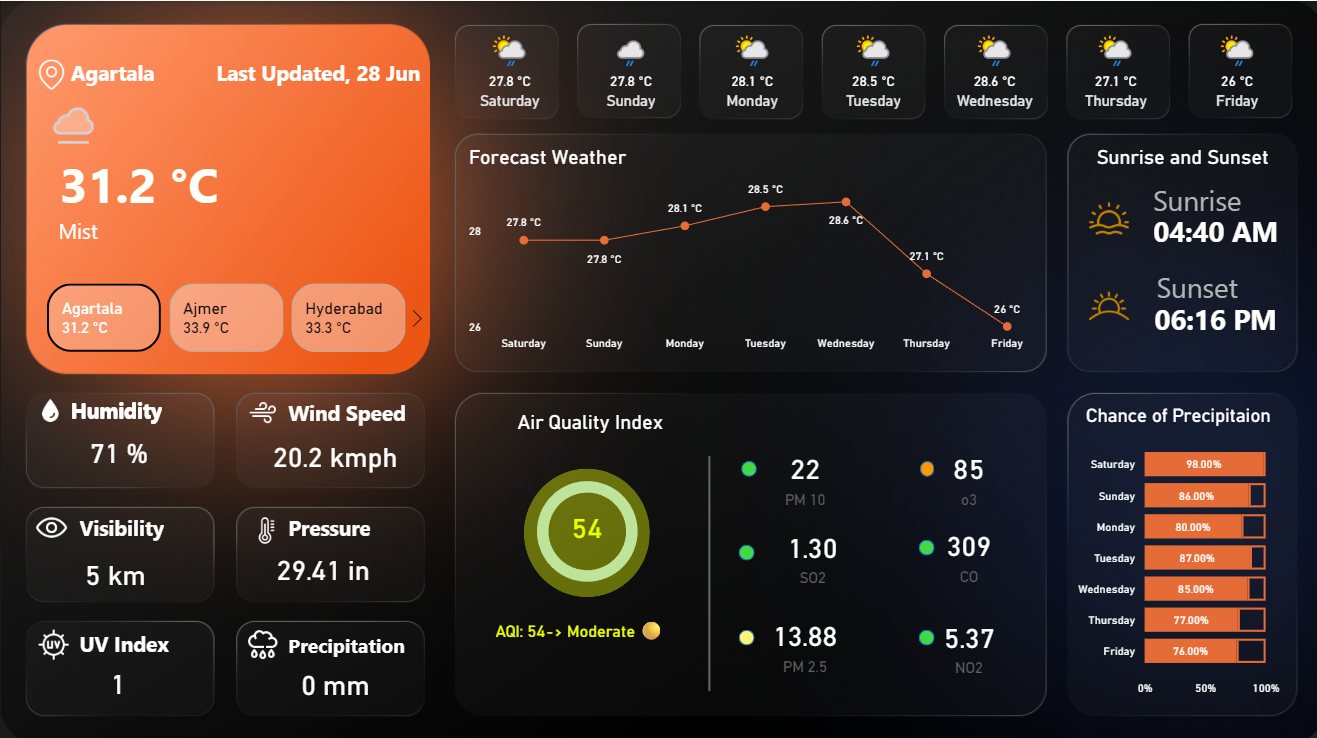

What the dashboard file says about the page in this screenshot:
{"tool":"powerbi","page":{"name":"Page 1","canvas":[1280,720],"ordinal":0},"visuals":[{"type":"advancedSlicerVisual","fields":{"Values":["Locations.location.name"]},"box":[20.6,267.6,397.9,76.8],"z":0},{"type":"shape","box":[57.9,141.2,196.6,68.8],"z":1000},{"type":"shape","box":[48.2,197.9,356.5,46.9],"z":2000},{"type":"shape","box":[60.3,32.4,142.7,72.1],"z":3000},{"type":"shape","box":[197.2,32.4,209,72.1],"z":4000},{"type":"image","box":[29.4,51.5,41.2,38.3],"z":5000},{"type":"cardVisual","fields":{"Data":["Min(current.current.condition.icon)"]},"box":[20.6,70.6,103,79.5],"z":6000},{"type":"image","box":[27.4,485.8,43.9,43.9],"z":7000},{"type":"shape","box":[68.6,489.9,109.8,35.7],"z":8000},{"type":"image","box":[28.8,378.7,39.8,32.9],"z":9000},{"type":"image","box":[31.6,595.5,41.2,50.8],"z":10000},{"type":"image","box":[230.5,378.7,46.7,37],"z":11000},{"type":"image","box":[234.6,494,46.7,35.7],"z":12000},{"type":"image","box":[231.9,595.5,43.9,50.8],"z":13000},{"type":"shape","box":[60.9,378.1,109.1,33],"z":14000},{"type":"shape","box":[68.6,591.4,129,59],"z":15000},{"type":"shape","box":[270.3,378.7,127.6,35.7],"z":16000},{"type":"shape","box":[270.3,489.9,109.8,35.7],"z":17000},{"type":"shape","box":[270.3,603.8,127.6,35.7],"z":18000},{"type":"card","fields":{"Values":["_Measures.Humidity"]},"box":[52.1,411.7,126.2,48],"z":19000},{"type":"card","fields":{"Values":["_Measures.Wind_speed"]},"box":[254.2,415.6,138.5,48.7],"z":20000},{"type":"card","fields":{"Values":["_Measures.Visibility"]},"box":[48.7,528.3,126.4,48.7],"z":21000},{"type":"card","fields":{"Values":["_Measures.Pressure"]},"box":[243.6,525.2,137,47.2],"z":22000},{"type":"card","fields":{"Values":["Sum(current.current.uv)"]},"box":[53.3,639.4,121.8,38.1],"z":23000},{"type":"card","fields":{"Values":["_Measures.Precipitation"]},"box":[267.9,634.8,112.7,48.7],"z":24000},{"type":"advancedSlicerVisual","fields":{"Values":["Forecast_day.Day_Name"]},"box":[435.2,21.6,820.9,88.8],"z":25000},{"type":"lineChart","title":"Forecast Weather","fields":{"Y":["Sum(Forecast_day.forecast.forecastday.day.avgtemp_c)"],"Category":["Forecast_day.Day_Name"]},"box":[447.9,139.6,560.8,205.6],"z":26000},{"type":"shape","box":[60.4,378.7,109.8,32.9],"z":27000},{"type":"shape","box":[1030.3,134.5,214.4,33],"z":28000},{"type":"shape","box":[1101.4,196.7,143.4,49.5],"z":29000},{"type":"shape","box":[1101.4,280.4,143.4,52],"z":30000},{"type":"shape","box":[1101.4,173.8,107.9,35.5],"z":31000},{"type":"shape","box":[1101.4,255,107.9,41.9],"z":32000},{"type":"image","box":[1040.4,185.3,60.9,48.2],"z":33000},{"type":"image","box":[1040.4,256.3,60.9,76.1],"z":34000},{"type":"hundredPercentStackedBarChart","title":"Chance of Precipitaion","fields":{"Y":["Sum(Forecast_day.forecast.forecastday.day.daily_chance_of_rain)","_Measures.Left_Value_Precipitation"],"Category":["Forecast_day.Day_Name"]},"box":[1034.1,389.5,206.8,288],"z":35000},{"type":"shape","box":[458.1,389.5,214.4,33],"z":36000},{"type":"card","fields":{"Values":["Sum(current.current.air_quality.o3)"]},"box":[866.6,418.7,138.3,81.2],"z":37000},{"type":"card","fields":{"Values":["Sum(current.current.air_quality.pm2_5)"]},"box":[708,579.9,138.3,81.2],"z":38000},{"type":"card","fields":{"Values":["Sum(current.current.air_quality.pm10)"]},"box":[708,418.7,138.3,81.2],"z":39000},{"type":"card","fields":{"Values":["Sum(current.current.air_quality.co)"]},"box":[866.6,493.6,138.3,81.2],"z":40000},{"type":"card","fields":{"Values":["Sum(current.current.air_quality.so2)"]},"box":[715.6,494.8,138.3,81.2],"z":41000},{"type":"card","fields":{"Values":["Sum(current.current.air_quality.no2)"]},"box":[866.6,581.1,138.3,81.2],"z":42000},{"type":"shape","box":[715.6,444.1,15,15.2],"z":43000},{"type":"shape","box":[713.1,525.3,15.2,15.2],"z":44000},{"type":"shape","box":[713.1,606.5,15.2,15.2],"z":45000},{"type":"shape","box":[886.9,606.5,15.2,15.2],"z":46000},{"type":"shape","box":[886.9,520.2,15.2,15.2],"z":47000},{"type":"shape","box":[888.2,444.1,14,15.2],"z":48000},{"type":"shape","box":[661.1,439.1,47.1,226.8],"z":49000},{"type":"card","fields":{"Values":["_Measures.AQI_PM25"]},"box":[497.1,466.9,138.7,82],"z":50000},{"type":"donutChart","fields":{"Y":["_Measures.AQI_PM25"]},"box":[452.4,446.4,229.2,131.5],"z":51000},{"type":"cardVisual","fields":{"Data":["_Measures.AQI_Label_Combined"]},"box":[458.4,559.8,202.7,86.9],"z":52000},{"type":"shape","box":[505.5,451.2,121.9,124.3],"z":53000}]}

Visuals, with their boxes in screenshot pixels (x1, y1, x2, y2), scaled from the page's 1280x720 canvas onto the 1317x738 screenshot:
advancedSlicerVisual - Locations.location.name: [left=21, top=274, right=431, bottom=353]
shape: [left=60, top=145, right=262, bottom=215]
shape: [left=50, top=203, right=416, bottom=251]
shape: [left=62, top=33, right=209, bottom=107]
shape: [left=203, top=33, right=418, bottom=107]
image: [left=30, top=53, right=73, bottom=92]
cardVisual - Min(current.current.condition.icon): [left=21, top=72, right=127, bottom=154]
image: [left=28, top=498, right=73, bottom=543]
shape: [left=71, top=502, right=184, bottom=539]
image: [left=30, top=388, right=71, bottom=422]
image: [left=33, top=610, right=75, bottom=662]
image: [left=237, top=388, right=285, bottom=426]
image: [left=241, top=506, right=289, bottom=543]
image: [left=239, top=610, right=284, bottom=662]
shape: [left=63, top=388, right=175, bottom=421]
shape: [left=71, top=606, right=203, bottom=667]
shape: [left=278, top=388, right=409, bottom=425]
shape: [left=278, top=502, right=391, bottom=539]
shape: [left=278, top=619, right=409, bottom=655]
card - _Measures.Humidity: [left=54, top=422, right=183, bottom=471]
card - _Measures.Wind_speed: [left=262, top=426, right=404, bottom=476]
card - _Measures.Visibility: [left=50, top=542, right=180, bottom=591]
card - _Measures.Pressure: [left=251, top=538, right=392, bottom=587]
card - Sum(current.current.uv): [left=55, top=655, right=180, bottom=694]
card - _Measures.Precipitation: [left=276, top=651, right=392, bottom=701]
advancedSlicerVisual - Forecast_day.Day_Name: [left=448, top=22, right=1292, bottom=113]
"Forecast Weather" lineChart: [left=461, top=143, right=1038, bottom=354]
shape: [left=62, top=388, right=175, bottom=422]
shape: [left=1060, top=138, right=1281, bottom=172]
shape: [left=1133, top=202, right=1281, bottom=252]
shape: [left=1133, top=287, right=1281, bottom=341]
shape: [left=1133, top=178, right=1244, bottom=215]
shape: [left=1133, top=261, right=1244, bottom=304]
image: [left=1070, top=190, right=1133, bottom=239]
image: [left=1070, top=263, right=1133, bottom=341]
"Chance of Precipitaion" hundredPercentStackedBarChart: [left=1064, top=399, right=1277, bottom=694]
shape: [left=471, top=399, right=692, bottom=433]
card - Sum(current.current.air_quality.o3): [left=892, top=429, right=1034, bottom=512]
card - Sum(current.current.air_quality.pm2_5): [left=728, top=594, right=871, bottom=678]
card - Sum(current.current.air_quality.pm10): [left=728, top=429, right=871, bottom=512]
card - Sum(current.current.air_quality.co): [left=892, top=506, right=1034, bottom=589]
card - Sum(current.current.air_quality.so2): [left=736, top=507, right=879, bottom=590]
card - Sum(current.current.air_quality.no2): [left=892, top=596, right=1034, bottom=679]
shape: [left=736, top=455, right=752, bottom=471]
shape: [left=734, top=538, right=749, bottom=554]
shape: [left=734, top=622, right=749, bottom=637]
shape: [left=913, top=622, right=928, bottom=637]
shape: [left=913, top=533, right=928, bottom=549]
shape: [left=914, top=455, right=928, bottom=471]
shape: [left=680, top=450, right=729, bottom=683]
card - _Measures.AQI_PM25: [left=511, top=479, right=654, bottom=563]
donutChart - _Measures.AQI_PM25: [left=465, top=458, right=701, bottom=592]
cardVisual - _Measures.AQI_Label_Combined: [left=472, top=574, right=680, bottom=663]
shape: [left=520, top=462, right=646, bottom=590]
